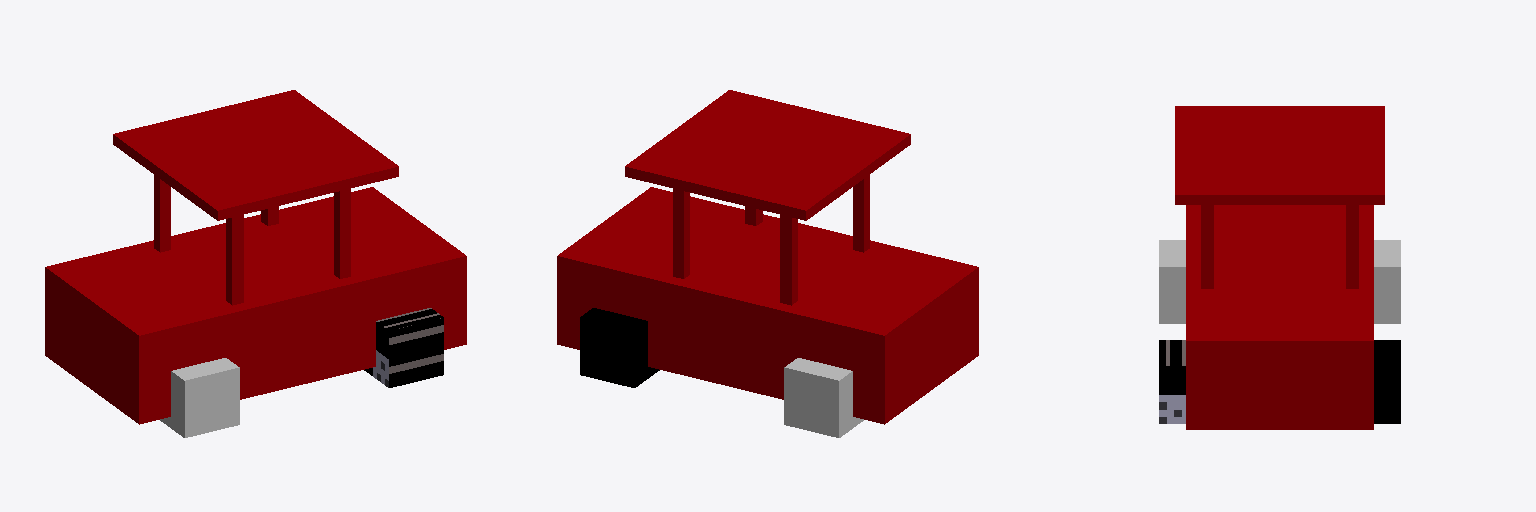
The picture shows the model from 3 angles: view 1: azimuth 30°, elevation 25°; view 2: azimuth 150°, elevation 25°; view 3: azimuth 270°, elevation 25°; orthographic projection.
Parts seen in each view (by area): view 1: Cube, Cube.009, Cube.001, Cube.002, Cube.005, Cube.006, Cube.008; view 2: Cube, Cube.009, Cube.004, Cube.003, Cube.008, Cube.007, Cube.005; view 3: Cube, Cube.009, Cube.004, Cube.003, Cube.002, Cube.001, Cube.007, Cube.006.
Part boxes in pixels (left/top/right/bottom): Cube: left=45, top=187, right=466, bottom=424; Cube.009: left=113, top=90, right=398, bottom=220; Cube.001: left=160, top=358, right=239, bottom=437; Cube.002: left=364, top=308, right=443, bottom=387; Cube.005: left=226, top=215, right=243, bottom=305; Cube.006: left=334, top=189, right=350, bottom=278; Cube.008: left=154, top=175, right=170, bottom=252; Cube: left=557, top=187, right=978, bottom=424; Cube.009: left=625, top=90, right=910, bottom=220; Cube.004: left=784, top=358, right=863, bottom=437; Cube.003: left=580, top=308, right=659, bottom=387; Cube.008: left=780, top=215, right=797, bottom=305; Cube.007: left=673, top=189, right=689, bottom=278; Cube.005: left=853, top=175, right=869, bottom=252; Cube: left=1186, top=205, right=1373, bottom=429; Cube.009: left=1175, top=106, right=1384, bottom=204; Cube.004: left=1374, top=240, right=1400, bottom=323; Cube.003: left=1374, top=340, right=1400, bottom=423; Cube.002: left=1159, top=340, right=1185, bottom=423; Cube.001: left=1159, top=240, right=1185, bottom=323; Cube.007: left=1346, top=205, right=1358, bottom=288; Cube.006: left=1201, top=205, right=1213, bottom=288.
Bounding box in the file's own units: 3.61 × 2.23 × 2.31.
4 materials, 1 textured.